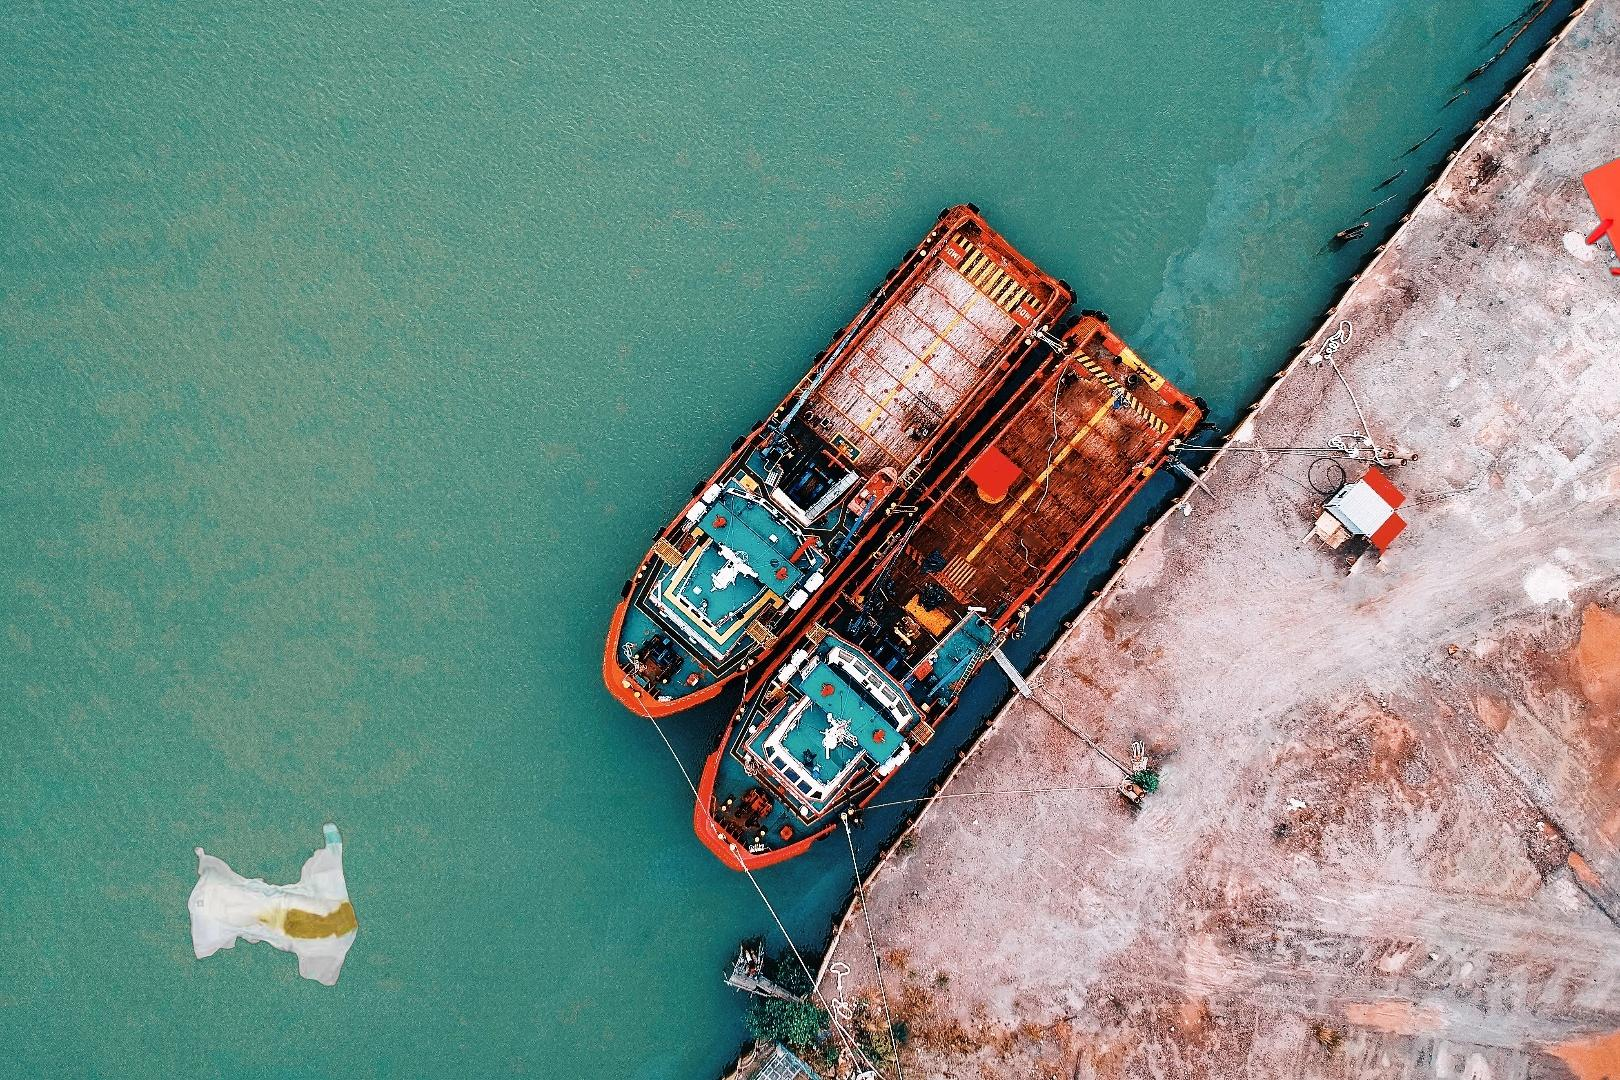paper-bag: (1580, 119, 1620, 328)
trash: (184, 819, 361, 989)
